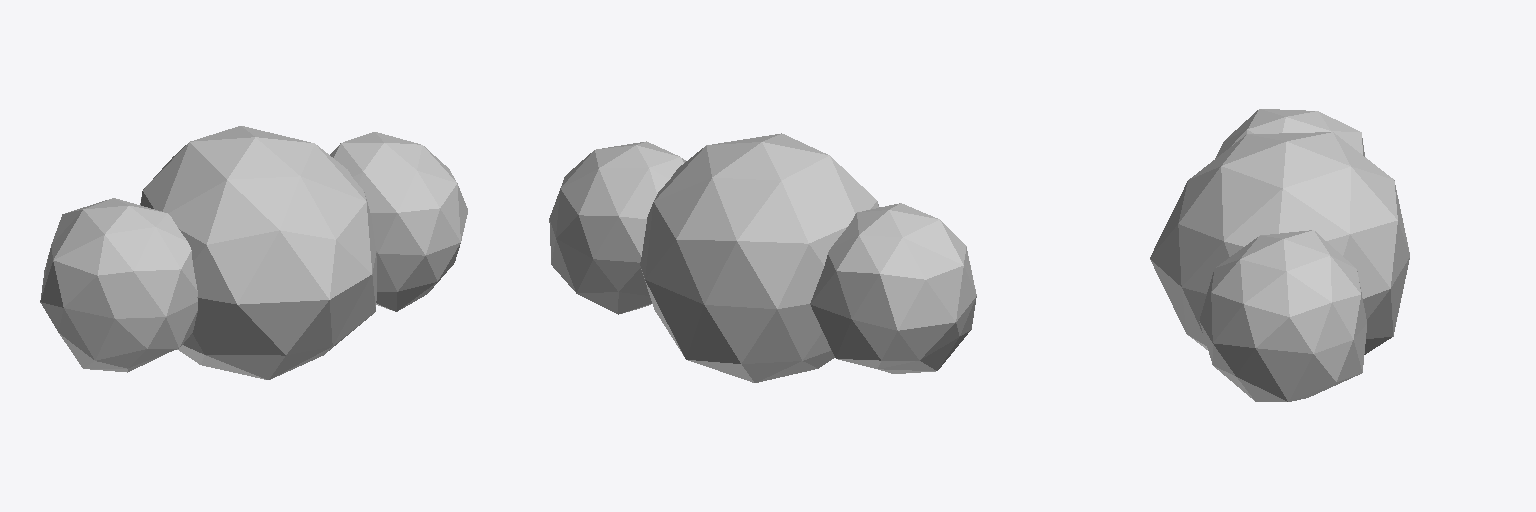
Rendered from Clouds_1.obj.
3 views of the same model, side by side, from view 1: azimuth 30°, elevation 25°; view 2: azimuth 150°, elevation 25°; view 3: azimuth 270°, elevation 25° (orthographic).
Visible parts, largest first — view 1: Clouds_1_Icosphere.008; view 2: Clouds_1_Icosphere.008; view 3: Clouds_1_Icosphere.008.
Part boxes in pixels (bbox=[...]): Clouds_1_Icosphere.008: bbox=[40, 126, 467, 379]; Clouds_1_Icosphere.008: bbox=[549, 133, 976, 382]; Clouds_1_Icosphere.008: bbox=[1150, 109, 1409, 401].
Size of the model in its own units: 28.35 by 15.54 by 15.86.